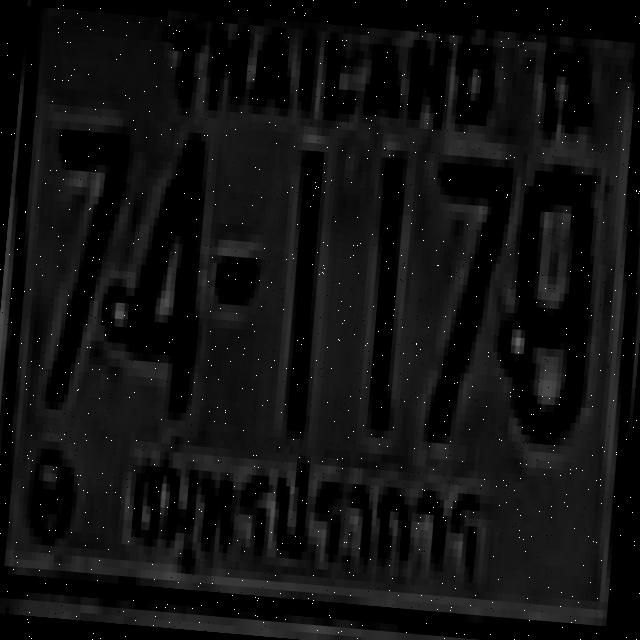1: (360, 149, 406, 430), (278, 150, 324, 422)
4: (116, 124, 210, 408)
7: (414, 150, 510, 435), (36, 120, 126, 406)
9: (492, 152, 600, 438)
SamutPrakan: (110, 424, 500, 600)
